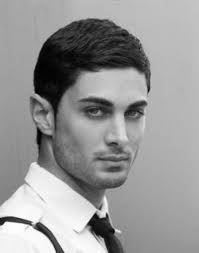middle_eastern_male: (48, 45, 151, 188)
